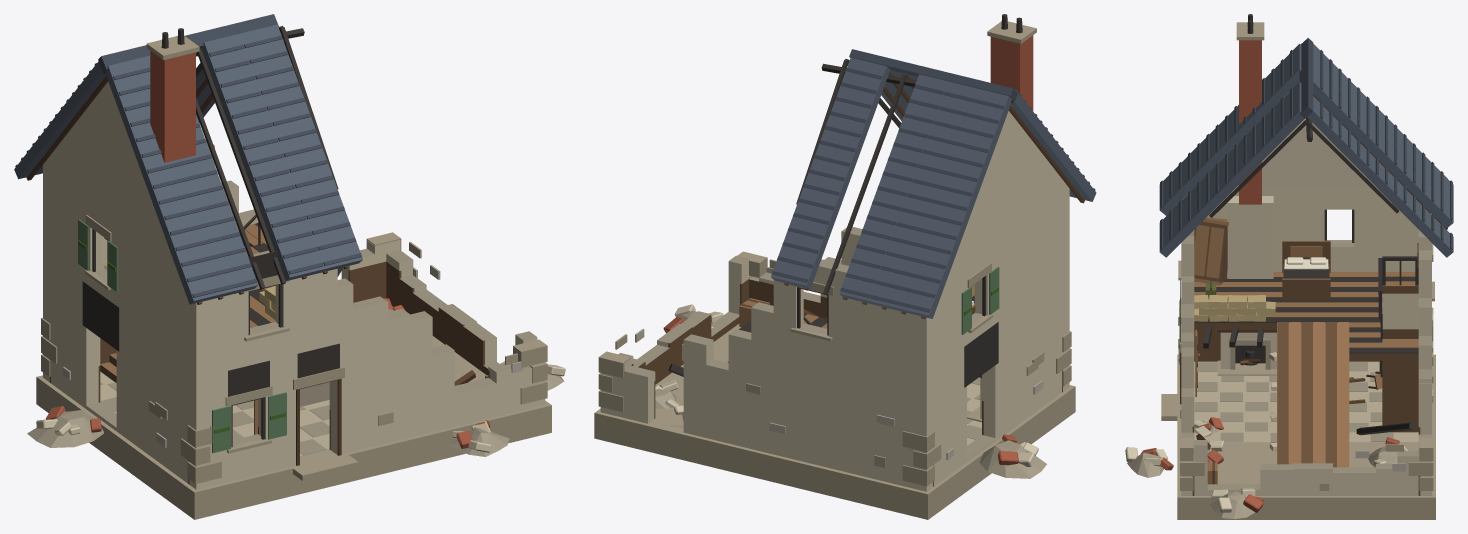
The model's file is house_ruined.glb.
3 views of the same model, side by side, from view 1: azimuth 30°, elevation 25°; view 2: azimuth 150°, elevation 25°; view 3: azimuth 270°, elevation 25° (orthographic). The views are drawn at different scales.
Visible parts, largest first — view 1: LOD0; view 2: LOD0; view 3: LOD0.
Part boxes in pixels (x1,y1,x2,y2): LOD0: [14, 14, 565, 519]; LOD0: [594, 14, 1096, 519]; LOD0: [1125, 14, 1453, 519].
Size of what is drawn, in the model's own units: 13.2 by 12.32 by 9.95.
Materials: 1 (1 with a texture image).
